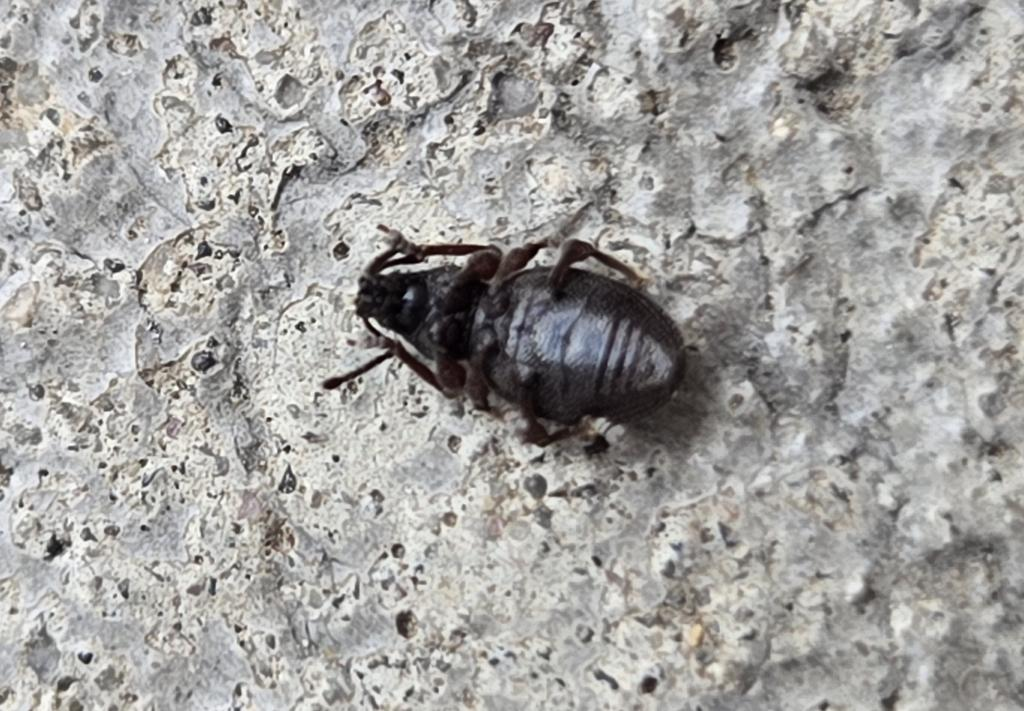weevils: (293, 192, 732, 506)
